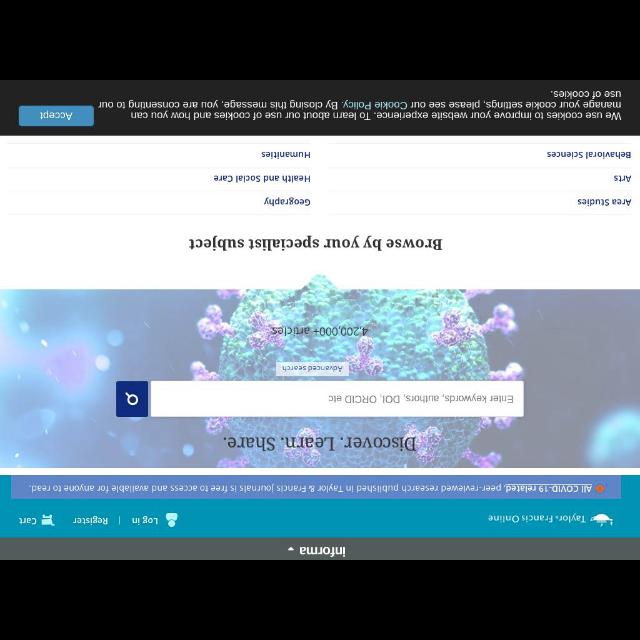backgroundimage: (0, 290, 638, 466)
button: (115, 382, 146, 416)
icon: (124, 391, 138, 405), (165, 512, 177, 528), (41, 514, 54, 526), (288, 547, 294, 551)
iframe: (1, 82, 637, 134)
image: (590, 514, 616, 526), (595, 484, 603, 492)
input: (150, 382, 522, 418)
spinner: (288, 545, 346, 557)
text: (29, 484, 590, 492), (190, 235, 442, 251), (224, 436, 414, 452), (328, 396, 512, 402), (488, 513, 584, 523), (276, 326, 366, 336), (214, 175, 310, 181), (548, 152, 630, 158), (299, 546, 345, 556), (578, 198, 630, 206), (264, 197, 310, 205), (262, 152, 310, 158), (74, 516, 108, 524), (132, 516, 158, 524), (614, 174, 630, 182), (18, 518, 36, 524)
textbutton: (19, 106, 93, 126), (277, 364, 347, 376)
